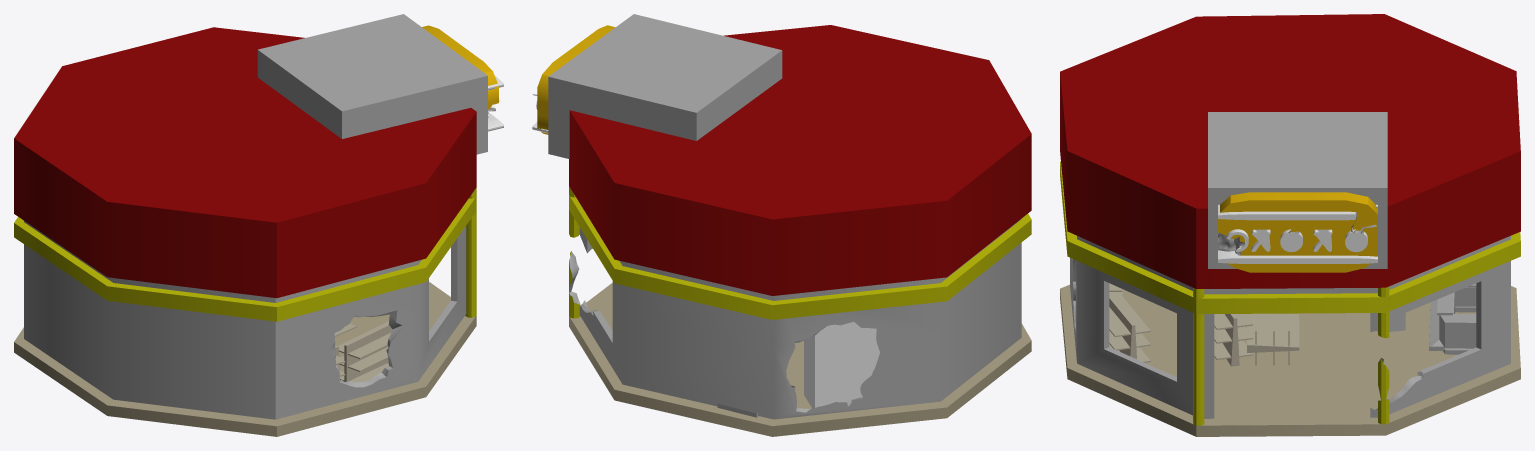
File: oxxo chafa.fbx
The picture shows the model from 3 angles, left to right: view 1: azimuth 30°, elevation 25°; view 2: azimuth 150°, elevation 25°; view 3: azimuth 270°, elevation 25°; orthographic projection. The views are drawn at different scales.
Visible parts, largest first — view 1: polySurface49; view 2: polySurface49; view 3: polySurface49.
Part boxes in pixels (left/top/right/bottom): polySurface49: left=14, top=14, right=503, bottom=436; polySurface49: left=532, top=14, right=1031, bottom=436; polySurface49: left=1060, top=14, right=1520, bottom=436.
Bounding box in the file's own units: 2.04 × 1.14 × 1.85.
